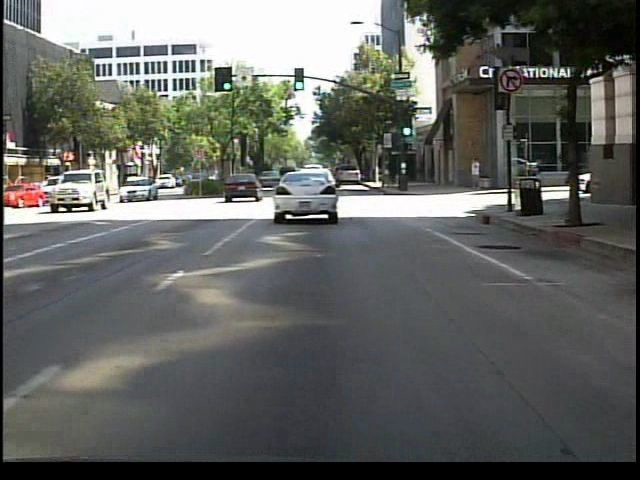person: (469, 155, 485, 194)
